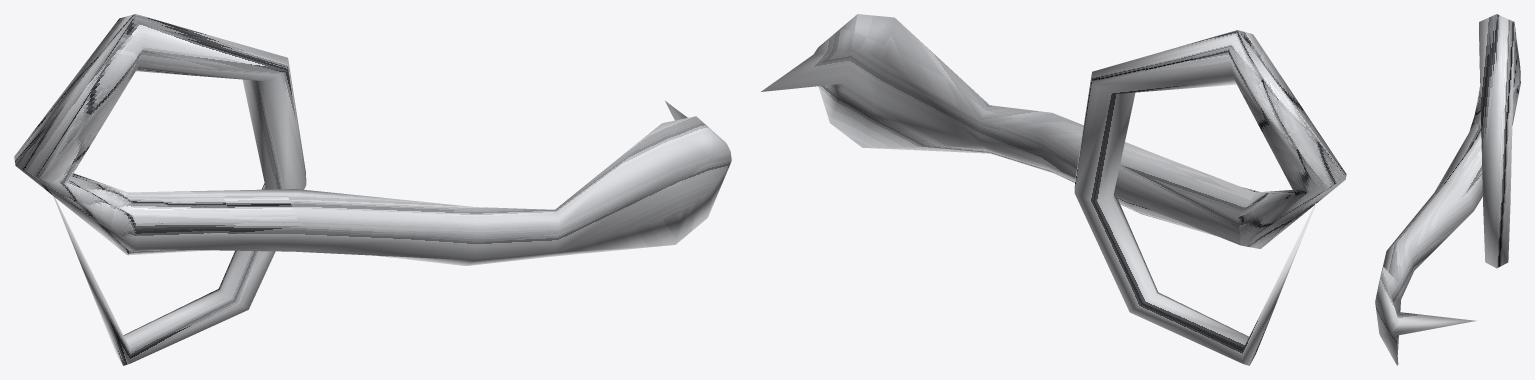
File: snake_000041.obj
The picture shows the model from 3 angles, left to right: view 1: azimuth 30°, elevation 25°; view 2: azimuth 150°, elevation 25°; view 3: azimuth 270°, elevation 25°; orthographic projection. The views are drawn at different scales.
Visible parts, largest first — view 1: Cylinder; view 2: Cylinder; view 3: Cylinder.
Part boxes in pixels (x1,y1,x2,y2): Cylinder: (14,14,731,365); Cylinder: (761,14,1346,365); Cylinder: (1375,14,1520,365).
Size of the model in its own units: 4.65 by 2.44 by 1.36.
